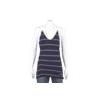canottiera: (37, 26, 62, 79)
